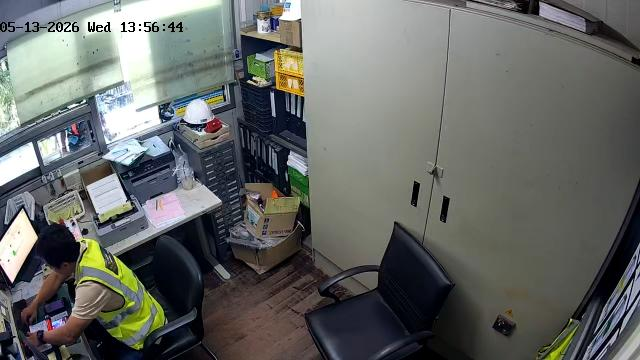Head: (37, 224, 80, 275)
People: (22, 224, 165, 359)
Phone: (44, 298, 64, 314), (52, 317, 67, 328)
